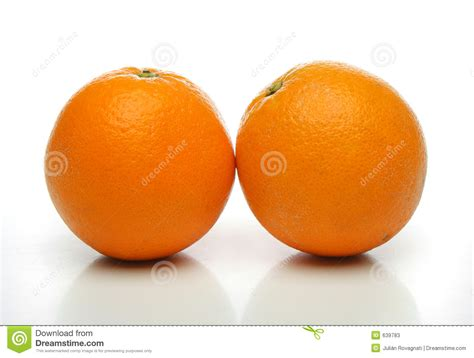orange: (238, 58, 437, 259), (40, 63, 236, 266)
